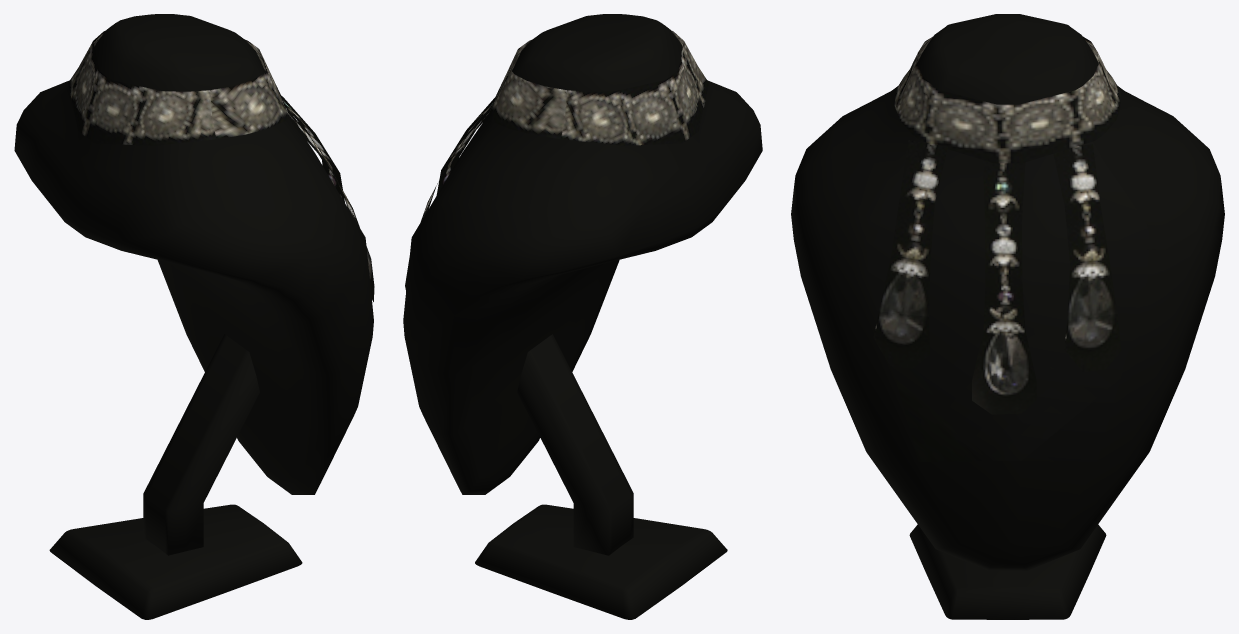
The model's file is necklace8.glb.
The picture shows the model from 3 angles, left to right: view 1: azimuth 30°, elevation 25°; view 2: azimuth 150°, elevation 25°; view 3: azimuth 270°, elevation 25°; orthographic projection.
Visible parts, largest first — view 1: MAHARISI-05_Earing; view 2: MAHARISI-05_Earing; view 3: MAHARISI-05_Earing.
Boxes of the visible parts, x1,y1,x2,y2 form: MAHARISI-05_Earing: (14,14,374,619); MAHARISI-05_Earing: (403,14,762,619); MAHARISI-05_Earing: (791,14,1224,619).
Size of what is drawn, in the model's own units: 32.95 by 63.17 by 46.17.
1 material, 1 textured.
